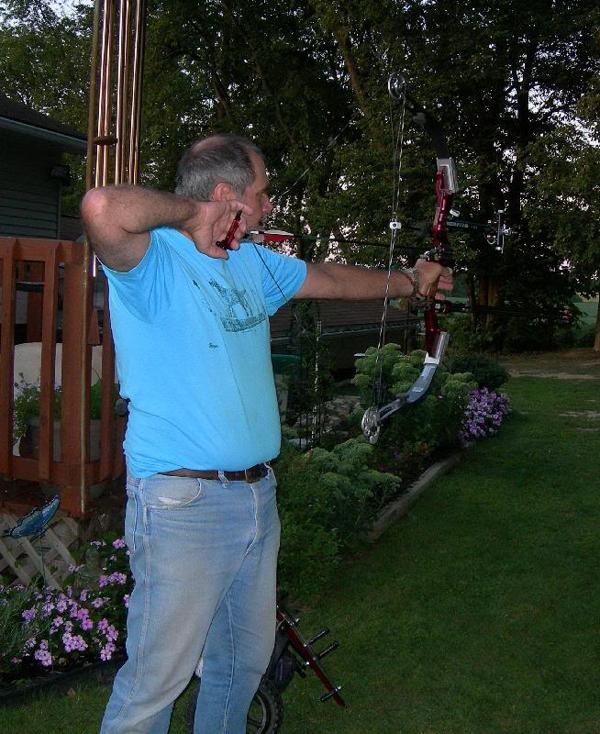person: (79, 126, 453, 734)
